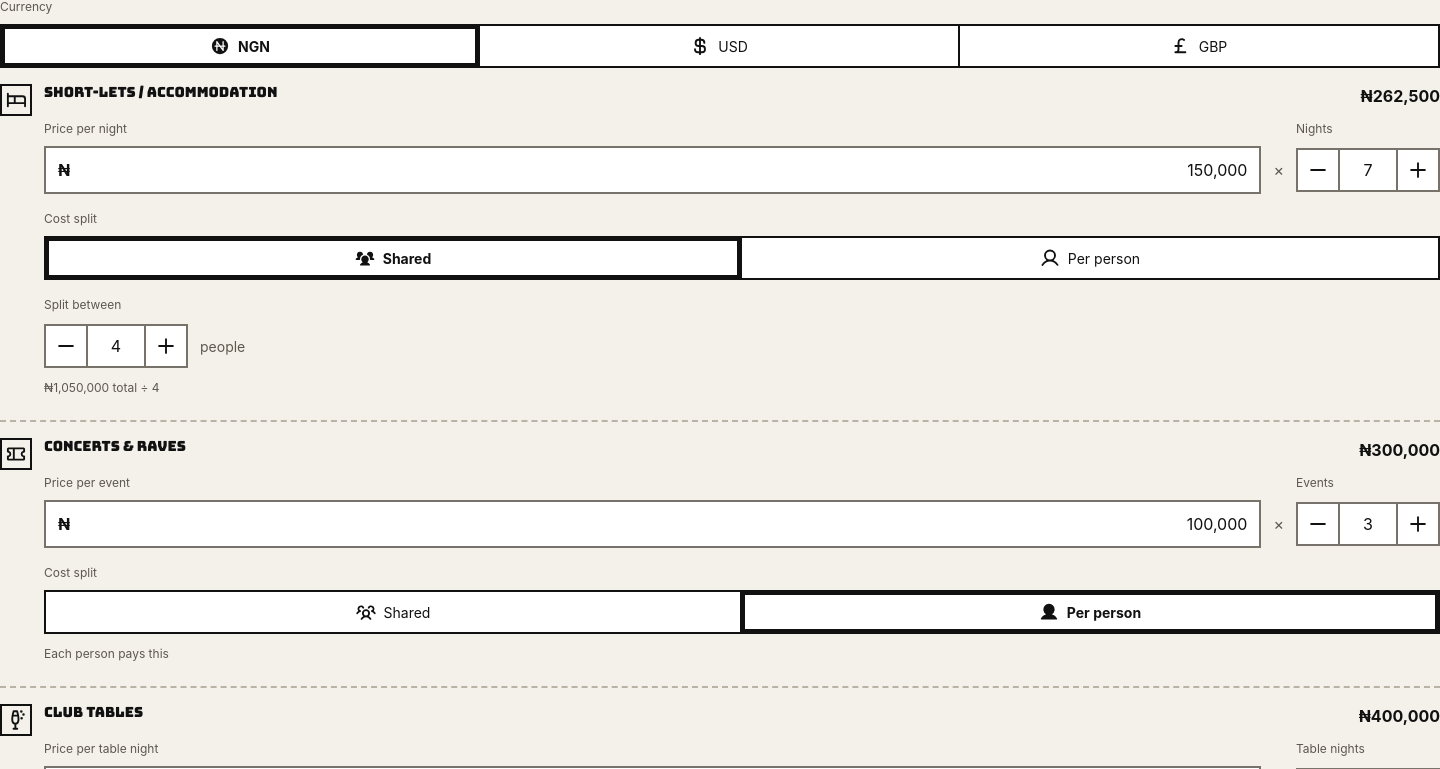
CurrencyControl › never changes the tier or the stored naira values
Click the text "USD" at (719, 46), box [478, 24, 960, 68]
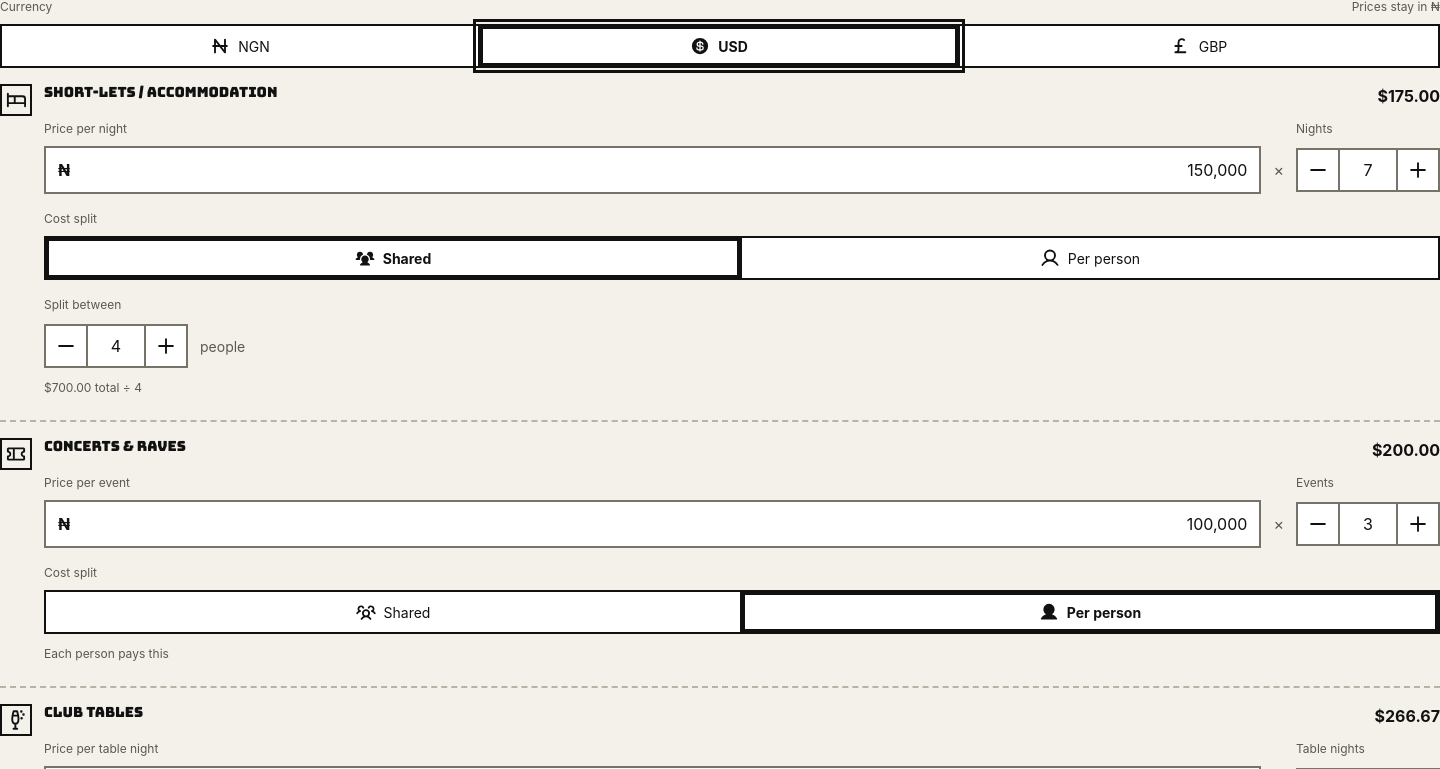
Check: the field named "Price per night Short-lets / Accommodation" holds "150,000", box [70, 148, 1259, 192]
Click the text "GBP" at (1199, 46), box [958, 24, 1439, 68]
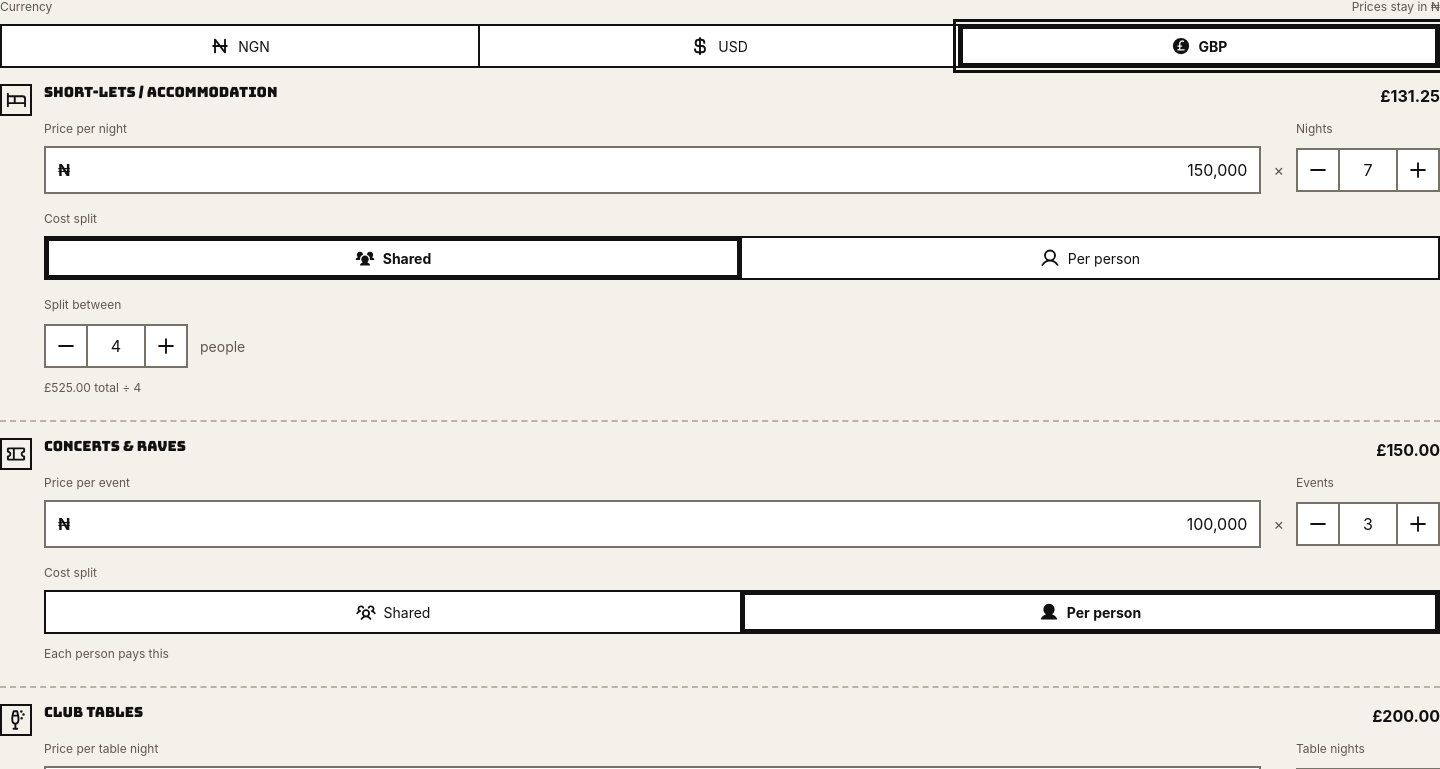
Check: the field named "Price per night Short-lets / Accommodation" holds "150,000", box [70, 148, 1259, 192]
Click the text "NGN" at (240, 46), box [0, 24, 480, 68]
(page scrolled)
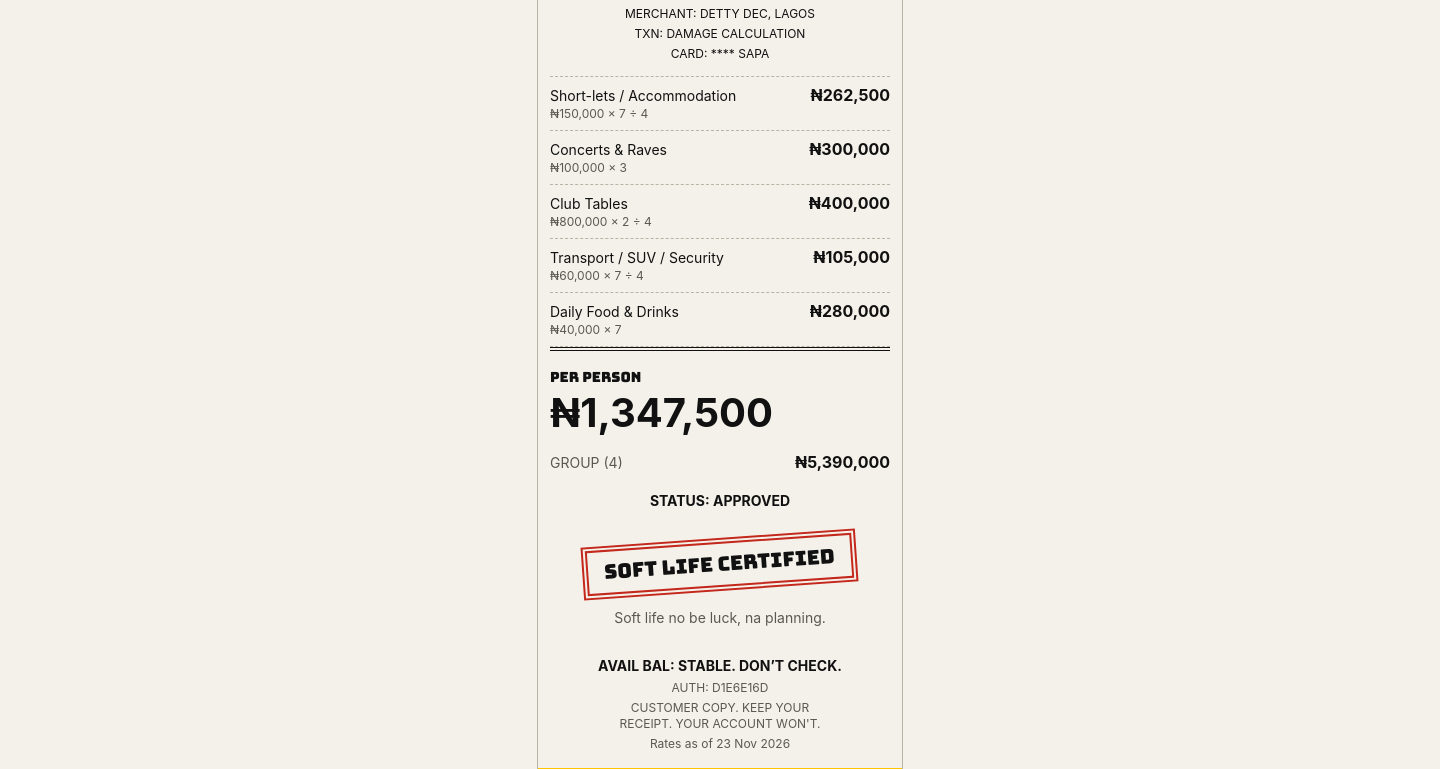
Check: the text "Soft Life Certified" is shown, box [581, 528, 859, 601]
Check: the text "₦1,347,500" is shown, box [550, 388, 773, 437]
